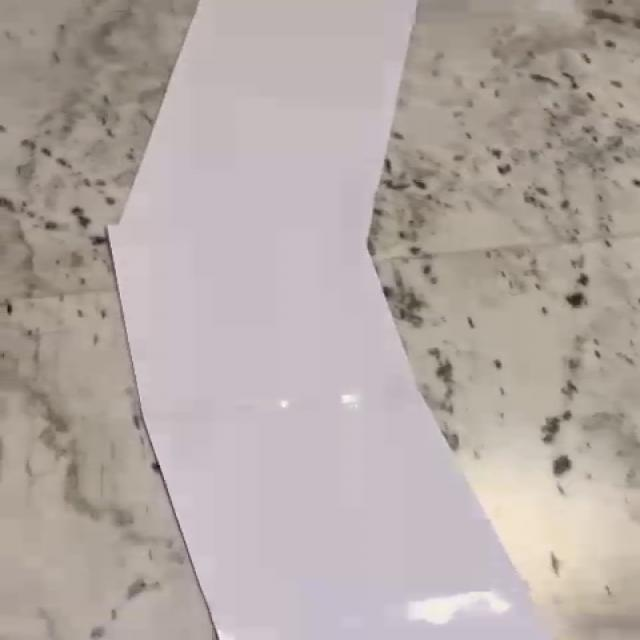road: (107, 0, 553, 640)
